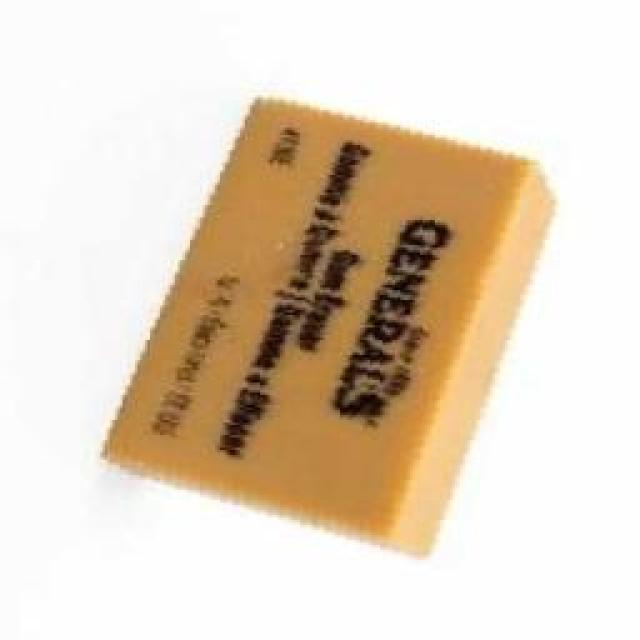Silgi: (98, 92, 557, 560)
